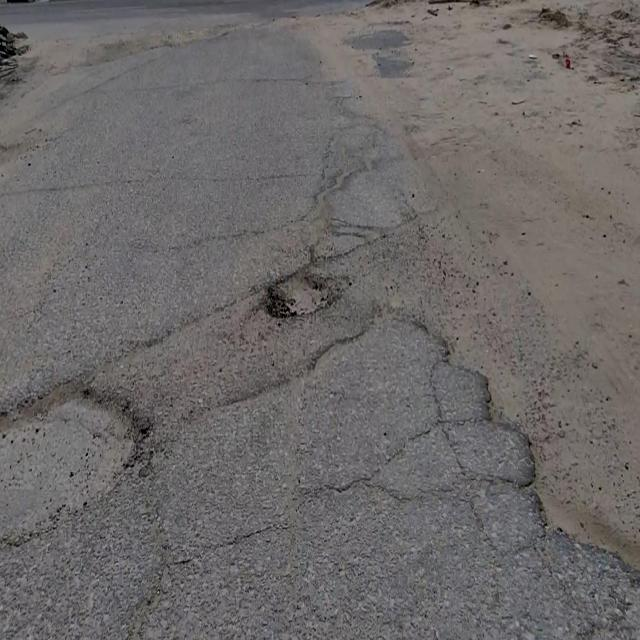Potholes: (485, 357, 640, 575), (0, 382, 153, 554), (268, 272, 334, 321)
